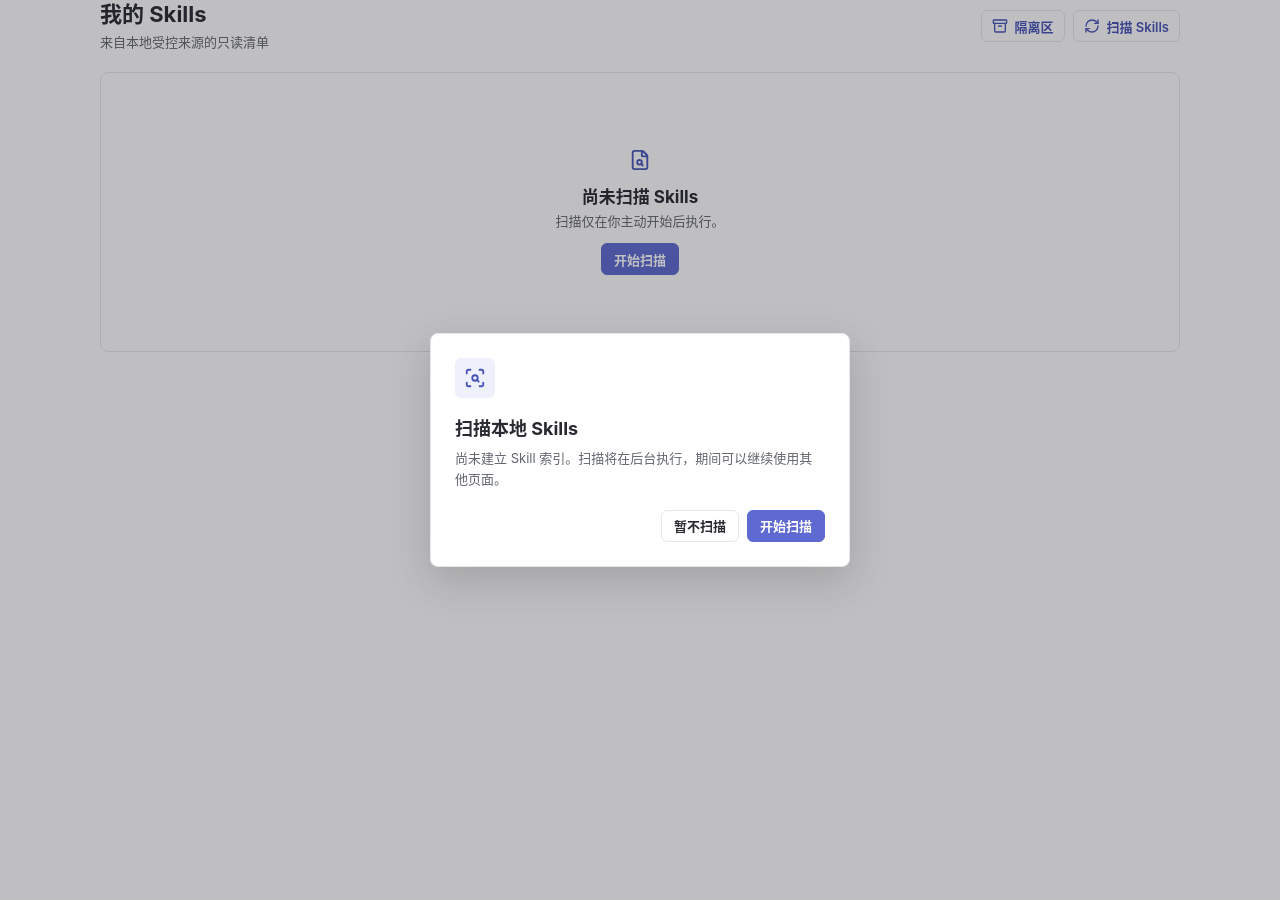
Test: SkillsPage › shows the first scan notice and allows postponing it
The image size is (1280, 900).
Expected: the dialog "扫描本地 Skills" is shown, [430,333,850,567]
Click the button "暂不扫描" at (700, 526), box [661,510,739,542]
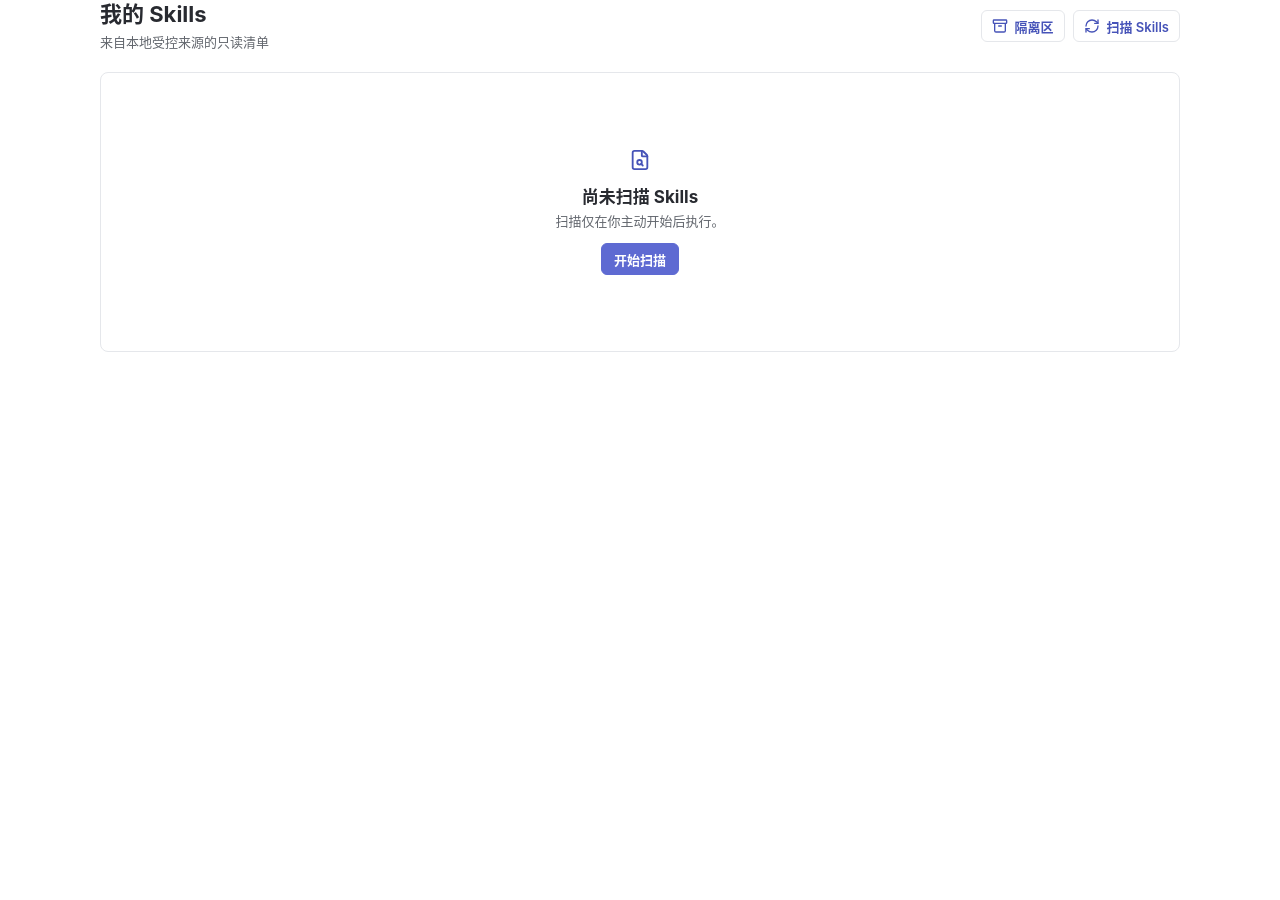
Expected: the heading "扫描本地 Skills" is gone
